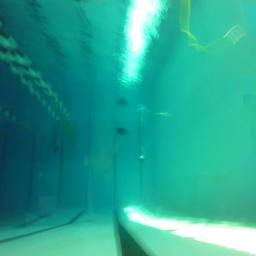Full: (117, 126, 129, 137), (139, 154, 144, 160)
